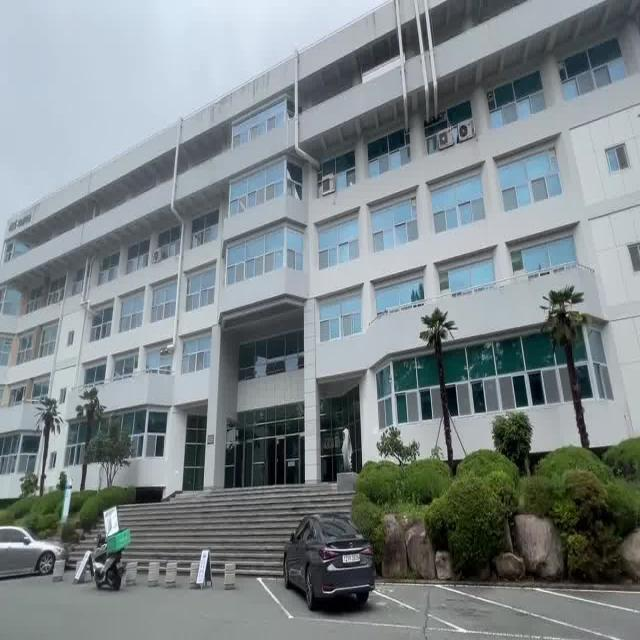building: (10, 34, 635, 446)
